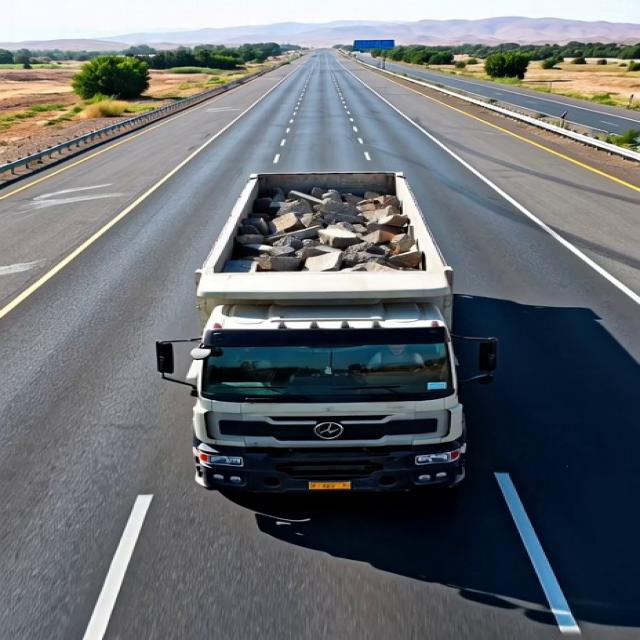Box: (212, 170, 458, 301)
Truck: (150, 144, 483, 497)
